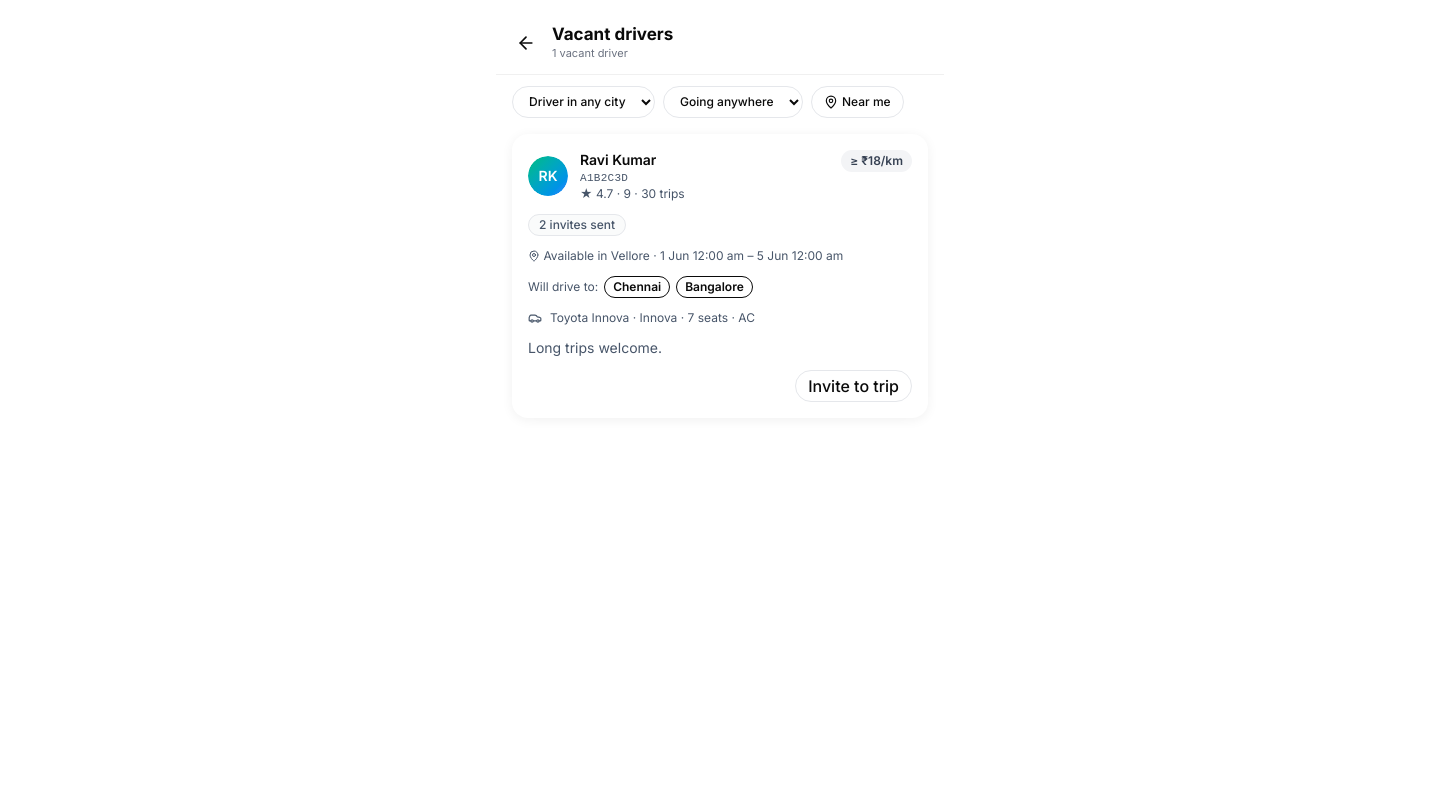
it: VacanciesPage › shows a "N invites sent" badge for an agent who has already invited this driver
The width and height of the screenshot is (1440, 810).
Click the button "2 invites sent". click: (577, 225)
box: x1=528 y1=214 x2=626 y2=236
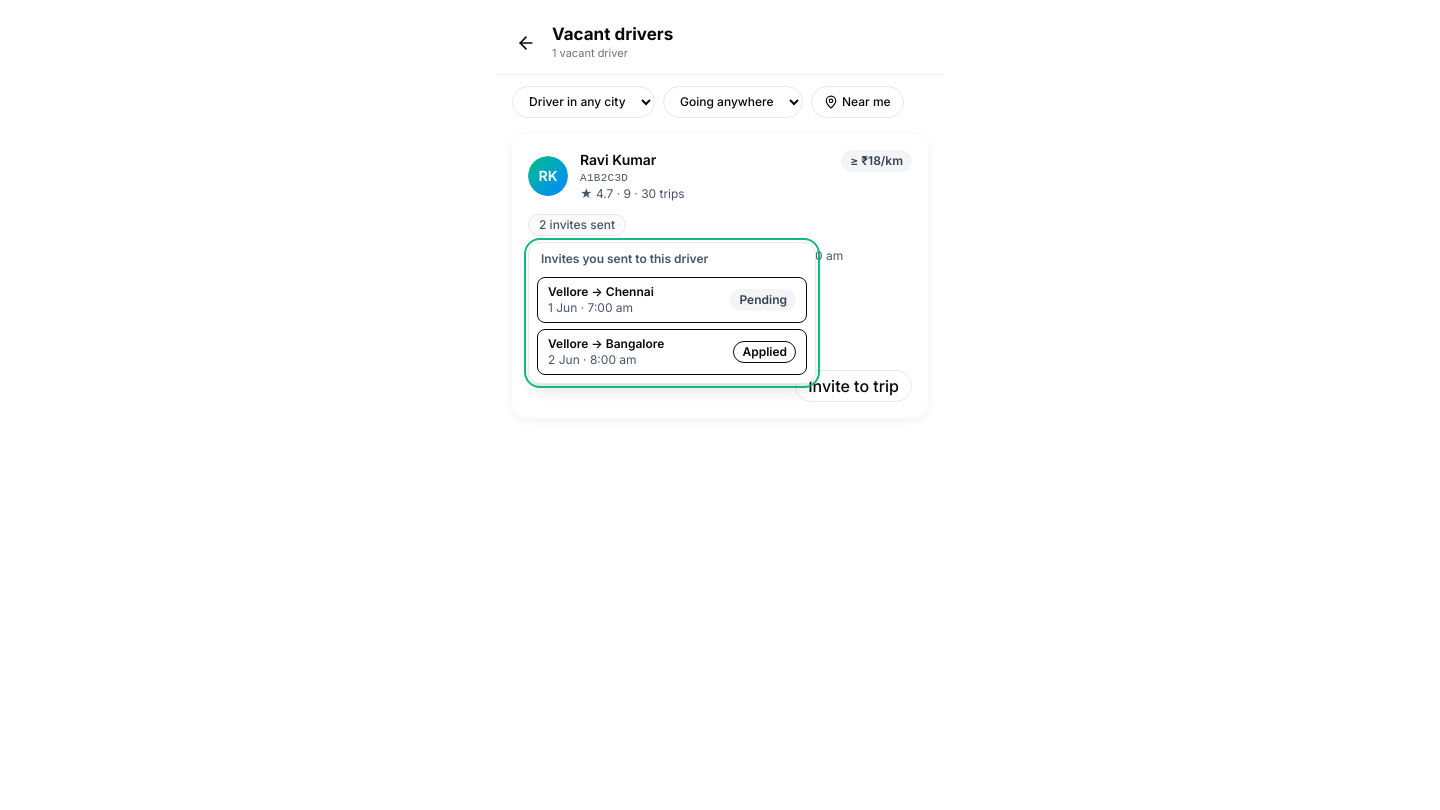
Result: the text "Vellore → Chennai" is shown at x1=548 y1=284 x2=654 y2=300
Result: the text "Vellore → Bangalore" is shown at x1=548 y1=336 x2=664 y2=352
Result: the text "Pending" is shown at x1=730 y1=289 x2=796 y2=311
